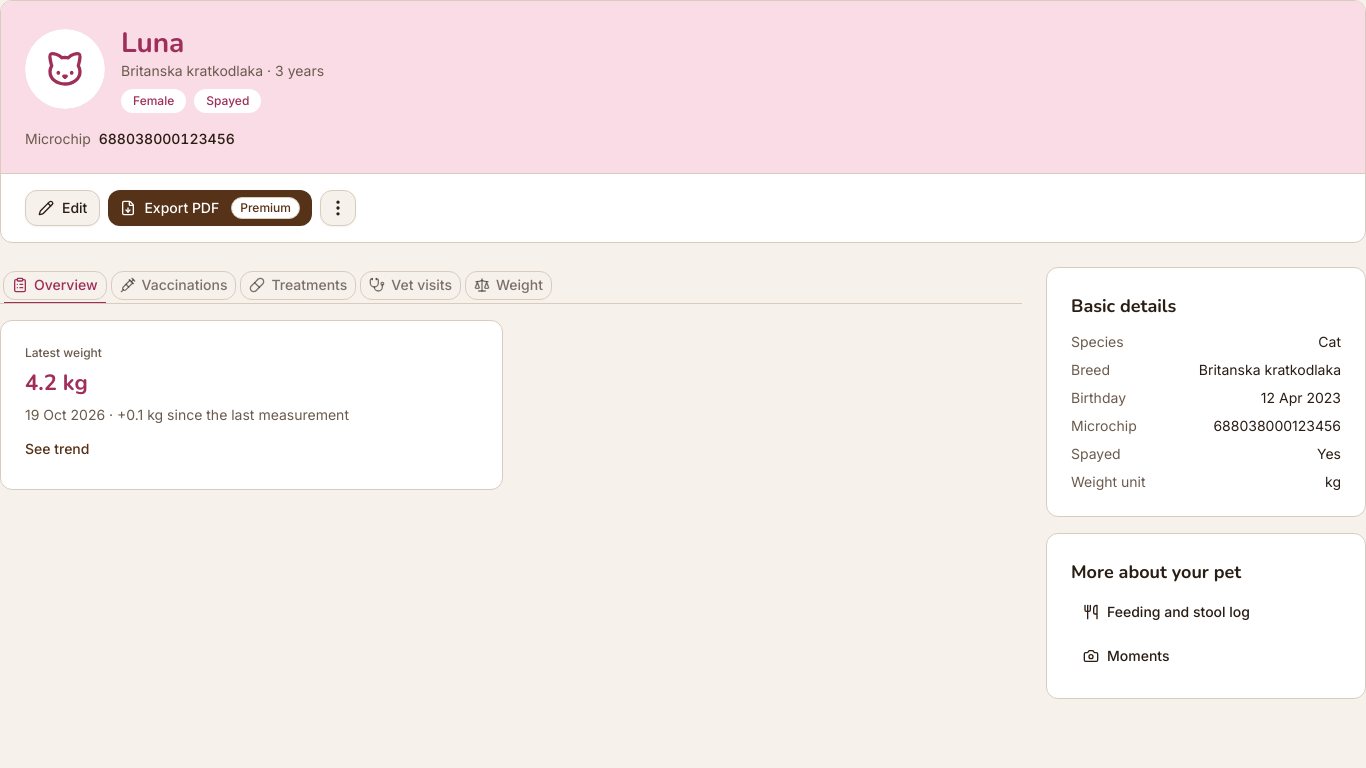
Test case: FR-04 — weight history as a trend › renders English dates and decimals in English
Click the tab "Weight".
click(508, 285)  # box [465,270,552,300]
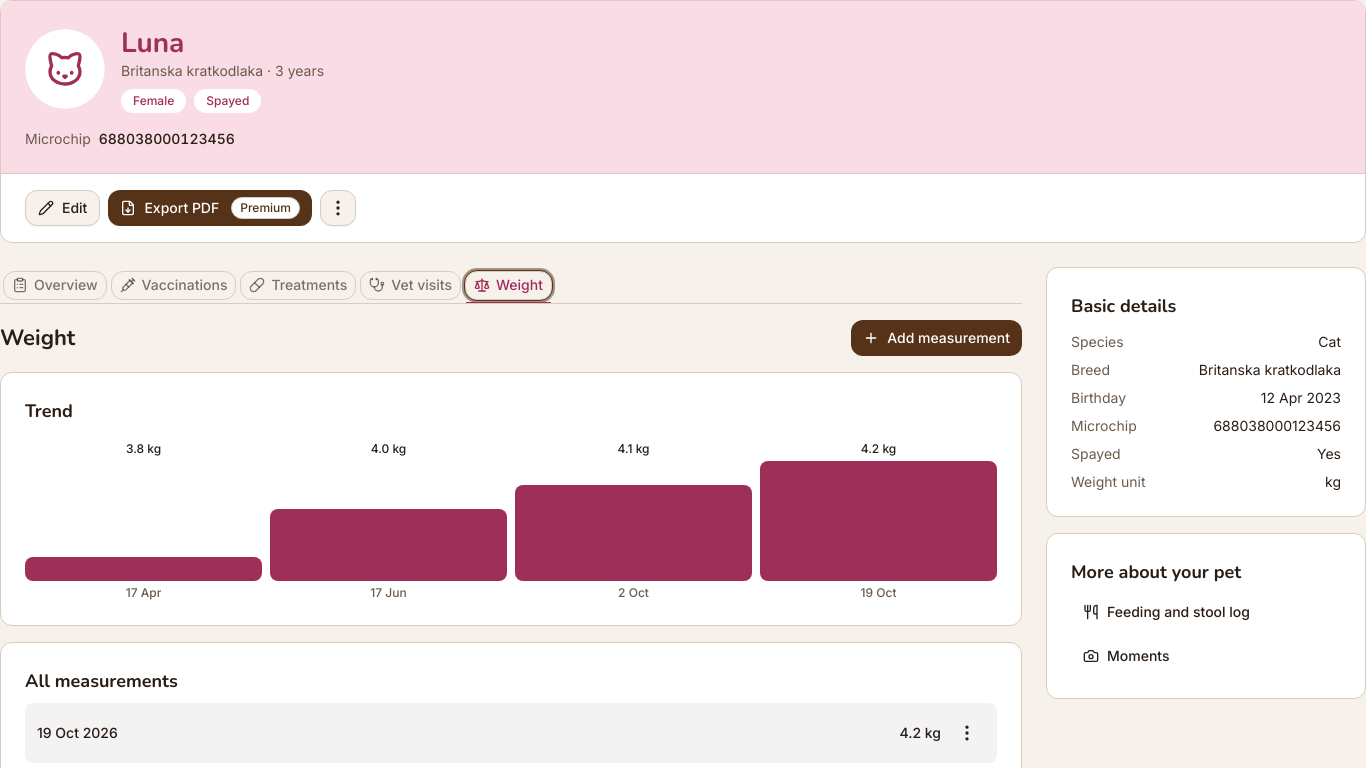
Expected: the elements with test id "weight-bar" read "3.8 kg17 Apr", "4.0 kg17 Jun", "4.1 kg2 Oct", "4.2 kg19 Oct", in this order, [25,441,262,601]; [270,441,507,601]; [515,441,752,601]; [760,441,997,601]
